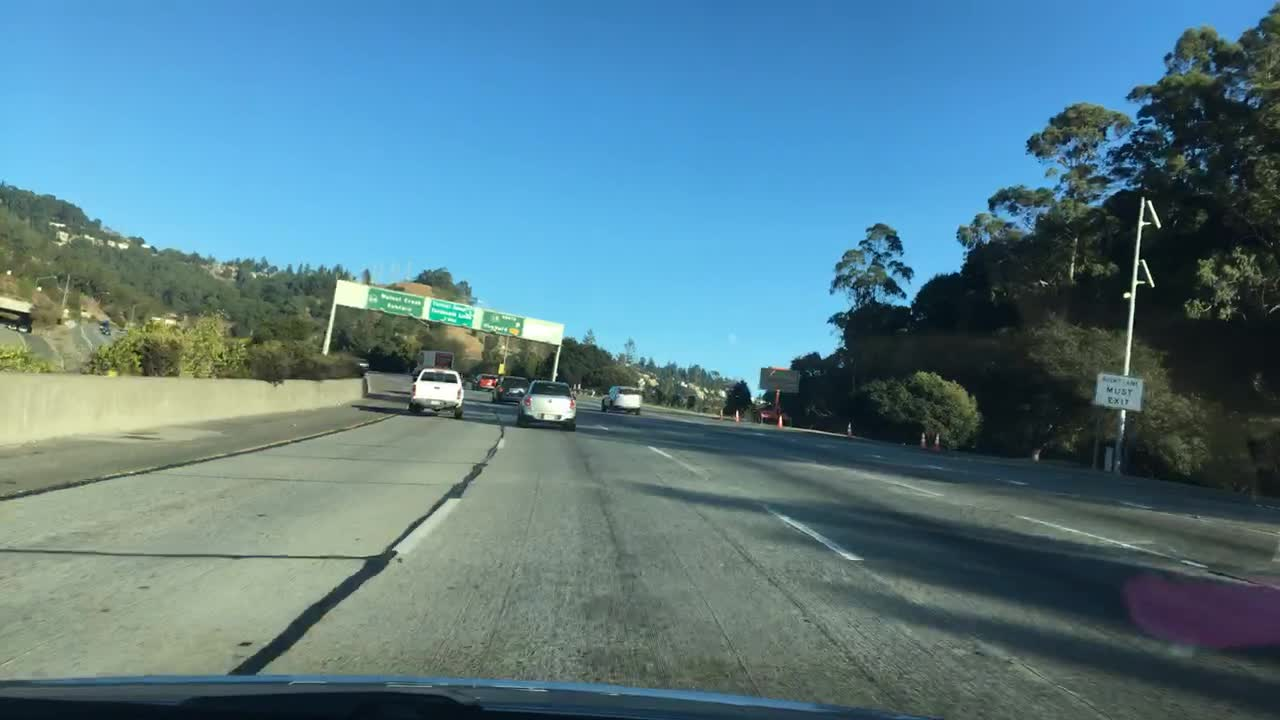car: (516, 380, 577, 430), (409, 369, 467, 417), (601, 384, 641, 414), (491, 376, 526, 399), (472, 371, 496, 389), (354, 355, 369, 373), (17, 325, 27, 335), (7, 320, 16, 330)
traffic sign: (1095, 373, 1141, 411), (366, 288, 422, 316), (431, 299, 472, 325), (482, 311, 521, 334)
truck: (417, 349, 454, 381)
